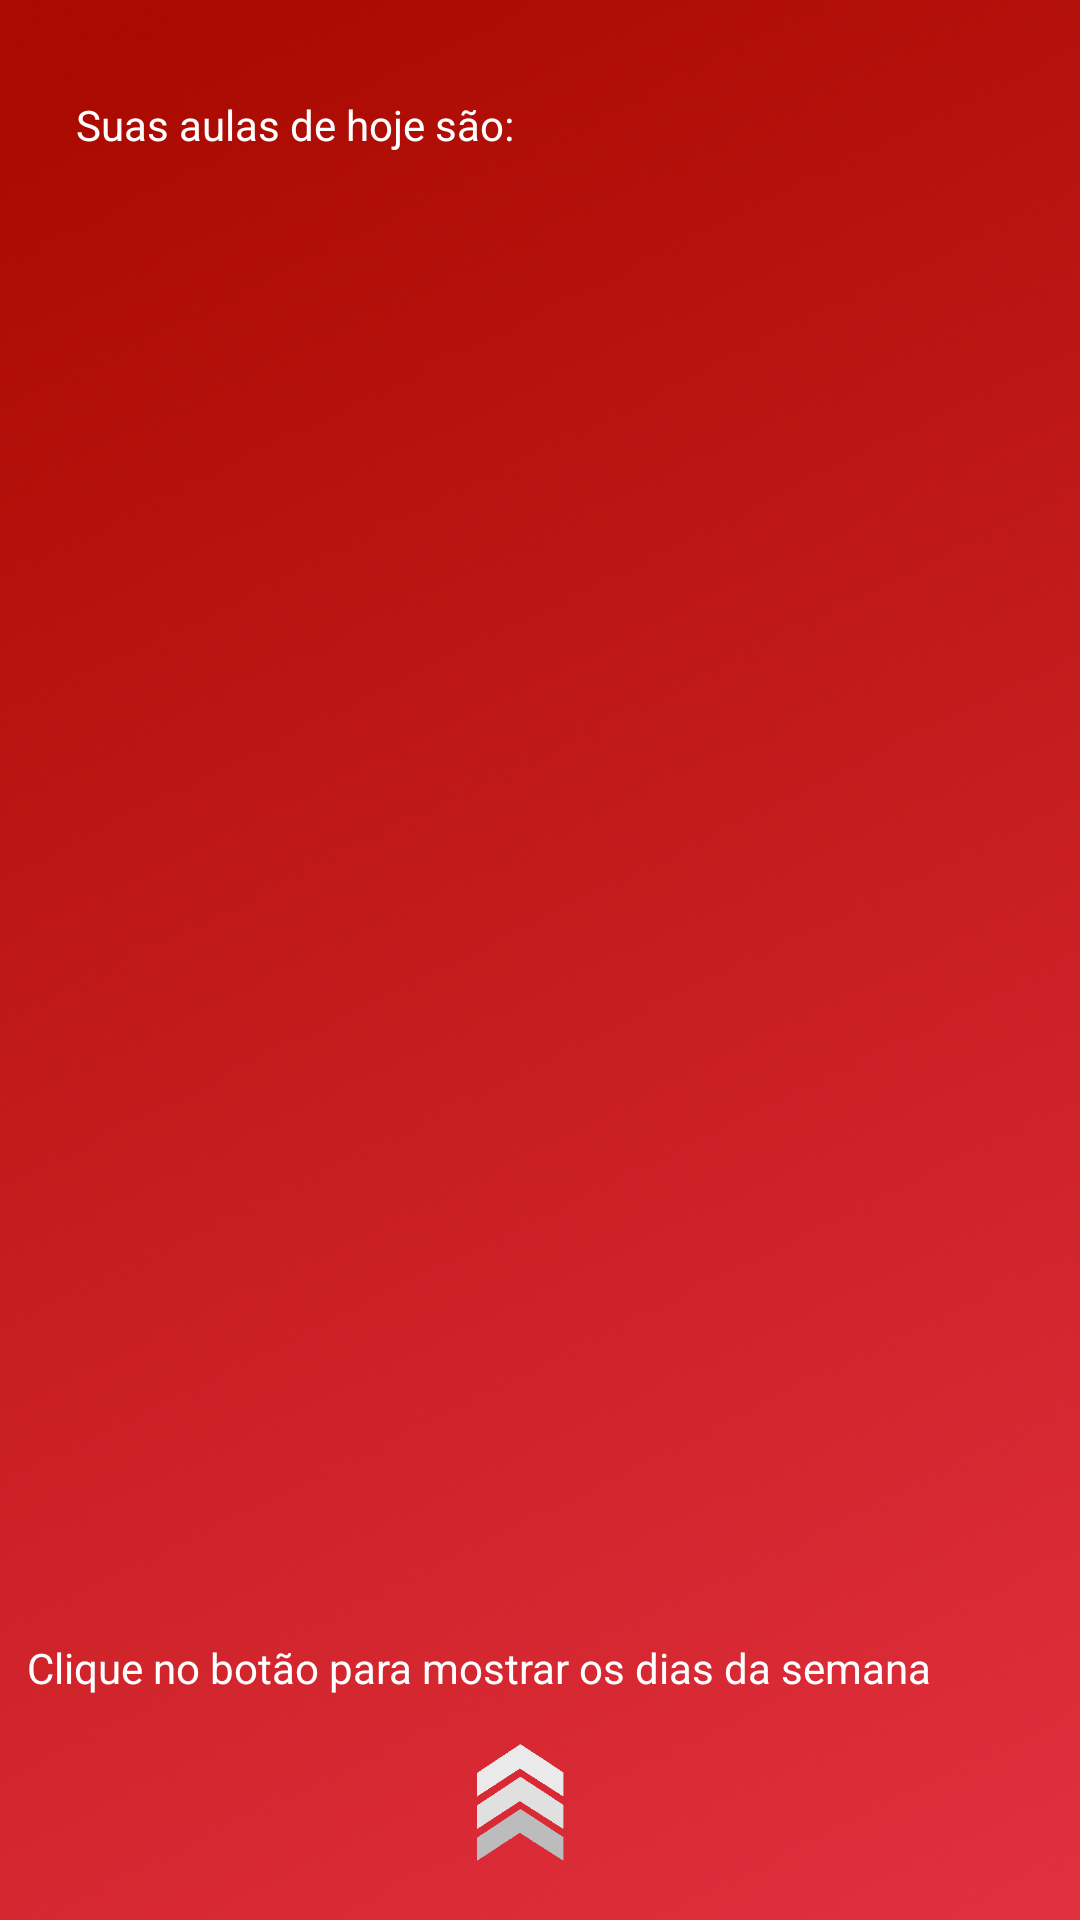

Icon click points for this 1080px×1920px phone screenshot, format point (x, y):
setacima: point (520, 1802)
